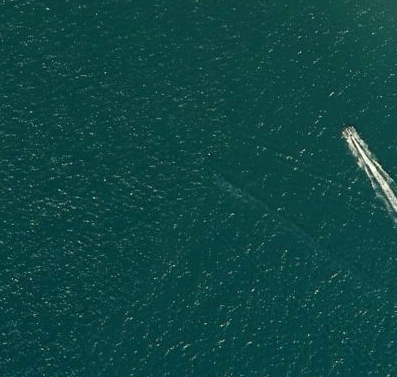ship: (340, 123, 358, 142)
